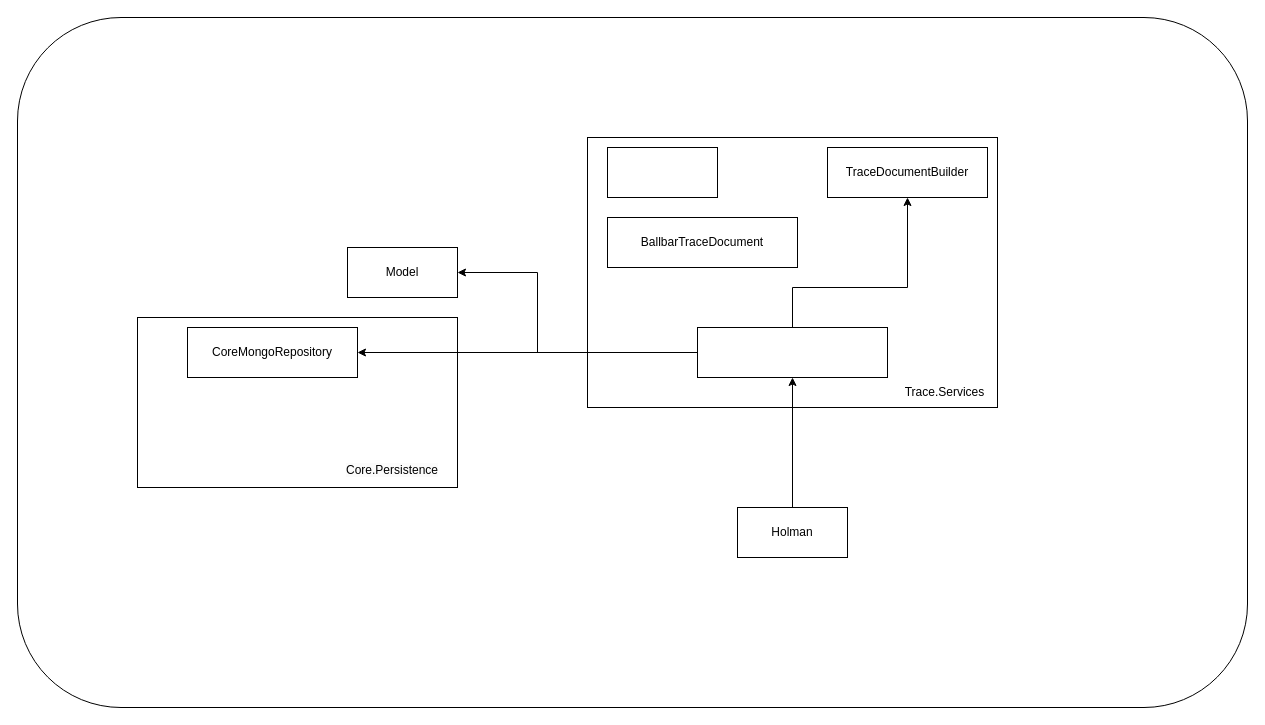
Some shapes in this 1265 by 725 pixel diagram are drawn without their labels. Each missing label, with the centre of its shape:
"BallbarTestDocumentService" goes at (x=792, y=352).
"BallBarTraceRun" goes at (x=662, y=172).
